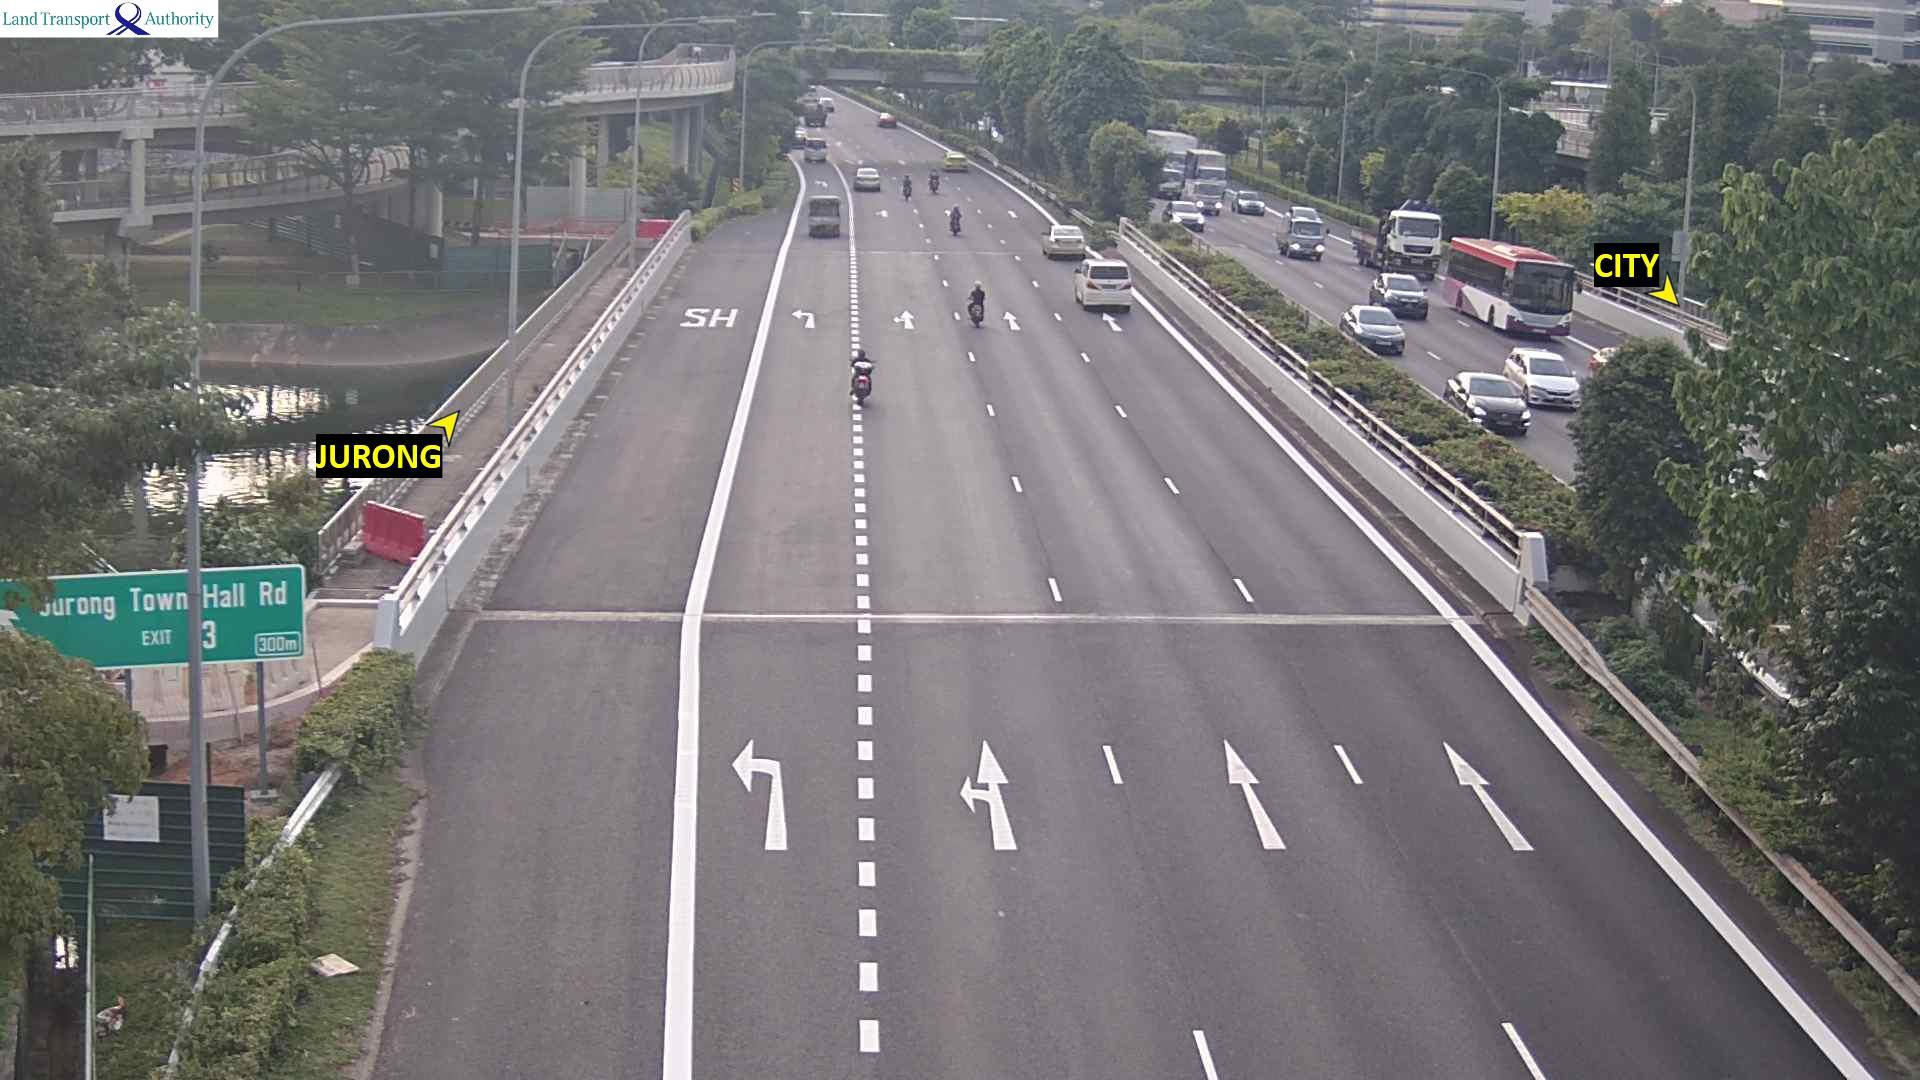incoming: (1509, 260, 1581, 334), (1466, 380, 1531, 430), (1393, 214, 1443, 269), (1356, 307, 1408, 352), (1530, 357, 1578, 404), (1382, 278, 1431, 318), (1286, 218, 1328, 258), (1193, 179, 1229, 210), (1170, 204, 1207, 229), (1236, 193, 1267, 215)
